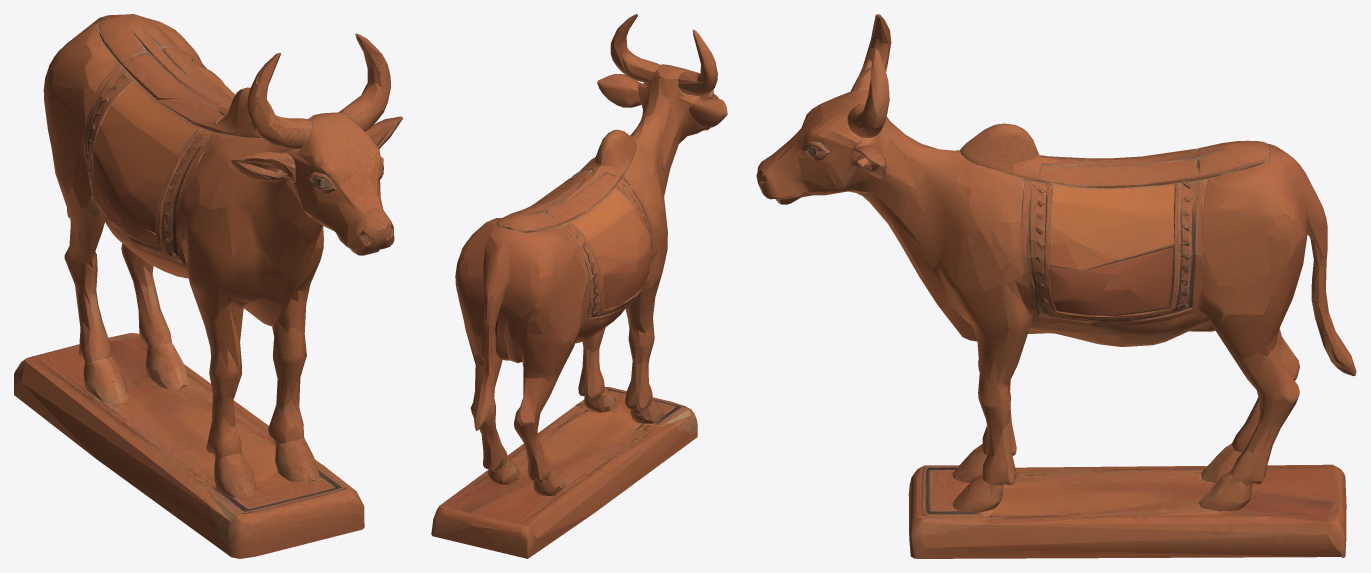
The model's file is bull.glb.
3 views of the same model, side by side, from view 1: azimuth 30°, elevation 25°; view 2: azimuth 150°, elevation 25°; view 3: azimuth 270°, elevation 25° (orthographic). The views are drawn at different scales.
Visible parts, largest first — view 1: mesh_node; view 2: mesh_node; view 3: mesh_node.
Part boxes in pixels (x1,y1,x2,y2): mesh_node: (14,14,402,558); mesh_node: (431,14,727,558); mesh_node: (756,14,1356,558).
Bounding box in the file's own units: 0.604 × 1.74 × 1.9.
1 material, 1 textured.
